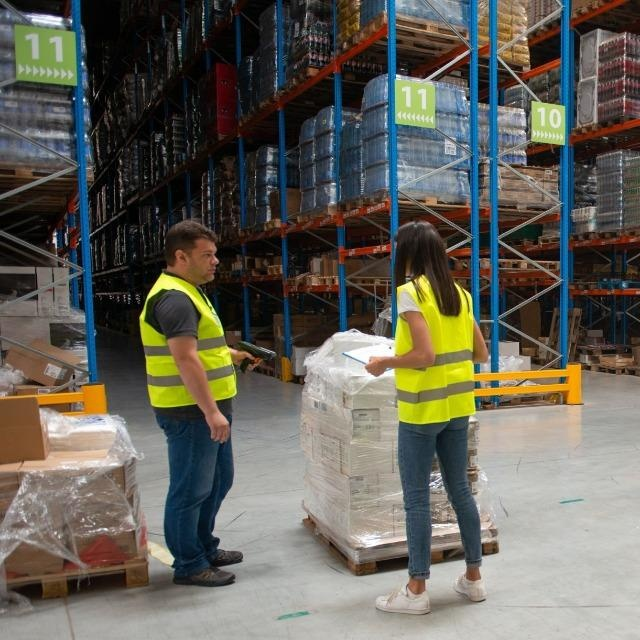Con_Chaleco: (139, 278, 241, 405), (390, 278, 478, 420)
Sin_Casco_Mascarrilla: (163, 220, 219, 285), (391, 221, 447, 281)
